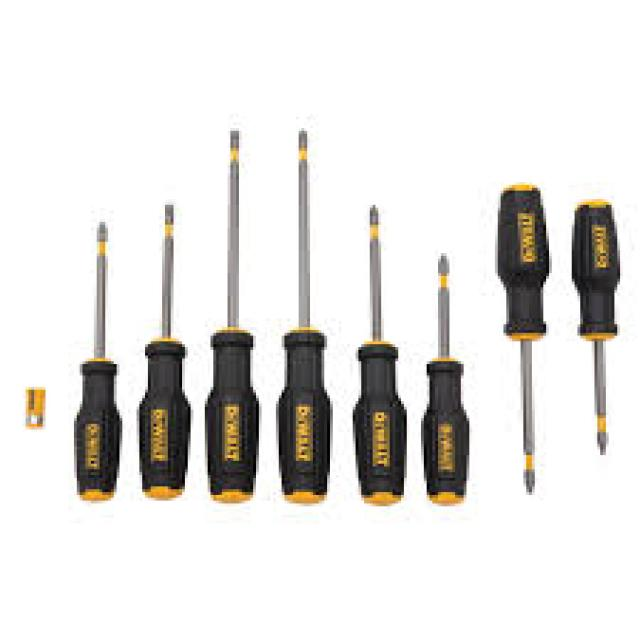screw driver: (266, 118, 349, 507), (477, 183, 566, 508), (204, 118, 273, 505), (350, 195, 423, 512), (555, 184, 634, 466), (132, 193, 203, 502), (68, 213, 131, 504), (419, 237, 483, 515)
